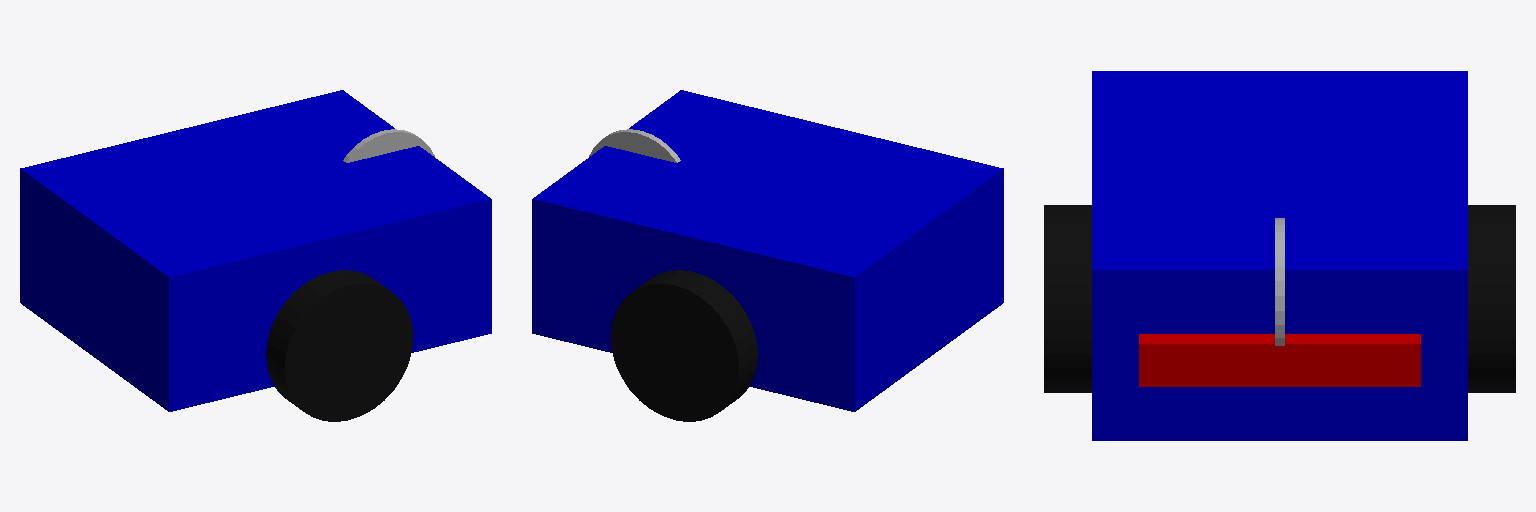
URDF robot description (battlebot):
<?xml version="1.0"?>
<robot name="battlebot">

  <material name="blue">
    <color rgba="0 0 0.8 1"/>
  </material>
  <material name="red">
    <color rgba="0.8 0 0 1"/>
  </material>
  <material name="black">
    <color rgba="0.1 0.1 0.1 1"/>
  </material>
  <material name="grey">
    <color rgba="0.7 0.7 0.7 1"/>
  </material>


  <link name="base_link">
    <inertial>
      <origin xyz="0 0 0.1" rpy="0 0 0"/>
      <mass value="5.0"/>
      <inertia ixx="0.1" ixy="0" ixz="0" iyy="0.1" iyz="0" izz="0.1"/>
    </inertial>
    <visual>
      <origin xyz="0 0 0.1" rpy="0 0 0"/>
      <geometry><box size="0.5 0.4 0.2"/></geometry>
      <material name="blue"/>
    </visual>
    <collision name="base_link_collision"> <origin xyz="0 0 0.1" rpy="0 0 0"/>
      <geometry><box size="0.5 0.4 0.2"/></geometry>
    </collision>
  </link>

  <link name="left_wheel">
    <inertial>
      <origin xyz="0 0 0" rpy="0 0 0"/>
      <mass value="0.5"/>
      <inertia ixx="0.01" ixy="0" ixz="0" iyy="0.01" iyz="0" izz="0.01"/>
    </inertial>
    <visual>
      <origin xyz="0 0 0" rpy="1.5708 0 0"/>
      <geometry><cylinder radius="0.1" length="0.05"/></geometry>
      <material name="black"/>
    </visual>
    <collision name="left_wheel_collision"> <origin xyz="0 0 0" rpy="1.5708 0 0"/>
      <geometry><cylinder radius="0.1" length="0.05"/></geometry>
    </collision>
  </link>

  <joint name="left_wheel_joint" type="continuous">
    <parent link="base_link"/>
    <child link="left_wheel"/>
    <origin xyz="0 0.225 0.05" rpy="0 0 0"/>
    <axis xyz="0 1 0"/>
  </joint>

  <link name="right_wheel">
    <inertial>
      <origin xyz="0 0 0" rpy="0 0 0"/>
      <mass value="0.5"/>
      <inertia ixx="0.01" ixy="0" ixz="0" iyy="0.01" iyz="0" izz="0.01"/>
    </inertial>
    <visual>
      <origin xyz="0 0 0" rpy="1.5708 0 0"/>
      <geometry><cylinder radius="0.1" length="0.05"/></geometry>
      <material name="black"/>
    </visual>
    <collision name="right_wheel_collision"> <origin xyz="0 0 0" rpy="1.5708 0 0"/>
      <geometry><cylinder radius="0.1" length="0.05"/></geometry>
    </collision>
  </link>

  <joint name="right_wheel_joint" type="continuous">
    <parent link="base_link"/>
    <child link="right_wheel"/>
    <origin xyz="0 -0.225 0.05" rpy="0 0 0"/>
    <axis xyz="0 1 0"/>
  </joint>

  <link name="saw_link">
    <inertial>
      <origin xyz="0 0 0" rpy="0 0 0"/>
      <mass value="0.2"/>
      <inertia ixx="0.001" ixy="0" ixz="0" iyy="0.001" iyz="0" izz="0.001"/>
    </inertial>
    <visual>
      <origin xyz="0 0 0" rpy="1.5708 0 0"/>
      <geometry><cylinder radius="0.08" length="0.01"/></geometry>
      <material name="grey"/>
    </visual>
    <collision name="battlebot_saw_collision"> <origin xyz="0 0 0" rpy="1.5708 0 0"/>
      <geometry><cylinder radius="0.08" length="0.01"/></geometry>
    </collision>
  </link>

  <joint name="saw_joint" type="fixed">
    <parent link="base_link"/>
    <child link="saw_link"/>
    <origin xyz="0.2 0 0.15" rpy="0 0 0"/>
  </joint>

  <link name="contact_sensor_link">
    <inertial>
      <origin xyz="0 0 0" rpy="0 0 0"/>
      <mass value="0.01"/>
      <inertia ixx="0.0001" ixy="0" ixz="0" iyy="0.0001" iyz="0" izz="0.0001"/>
    </inertial>
    <visual>
      <geometry><box size="0.05 0.3 0.05"/></geometry>
      <material name="red"/>
    </visual>
    <collision name="battlebot_front_bumper_collision"> <origin xyz="0 0 0" rpy="0 0 0"/>
      <geometry><box size="0.05 0.3 0.05"/></geometry>
    </collision>
  </link>

  <joint name="contact_sensor_joint" type="fixed">
    <parent link="base_link"/>
    <child link="contact_sensor_link"/>
    <origin xyz="0.25 0 0.1" rpy="0 0 0"/>
  </joint>

  <gazebo>
    <plugin name="diff_drive" filename="libgazebo_ros_diff_drive.so">
      <ros><namespace>/battlebot</namespace></ros>
      <left_joint>left_wheel_joint</left_joint>
      <right_joint>right_wheel_joint</right_joint>
      <wheel_separation>0.45</wheel_separation>
      <wheel_diameter>0.2</wheel_diameter>
      <command_topic>cmd_vel</command_topic>
      <odometry_topic>odom</odometry_topic>
      <odometry_frame>odom</odometry_frame>
      <robot_base_frame>base_link</robot_base_frame>
    </plugin>
  </gazebo>

  <gazebo reference="contact_sensor_link">
    <sensor name="main_contact_sensor" type="contact">
      <update_rate>100</update_rate>
      <contact><collision>battlebot_front_bumper_collision</collision></contact>
      <plugin name="gazebo_ros_bumper_main" filename="libgazebo_ros_bumper.so">
        <ros>
          <namespace>/battlebot</namespace>
          <remapping>bumper_states:=contact</remapping>
        </ros>
        <frame_name>contact_sensor_link</frame_name>
      </plugin>
    </sensor>
  </gazebo>

  <gazebo reference="saw_link">
    <sensor name="saw_contact_sensor" type="contact">
      <update_rate>100</update_rate>
      <contact><collision>battlebot_saw_collision</collision></contact>
      <plugin name="gazebo_ros_bumper_saw_plugin" filename="libgazebo_ros_bumper.so">
        <ros>
          <namespace>/battlebot</namespace>
          <remapping>bumper_states:=saw_contact</remapping>
        </ros>
        <frame_name>saw_link</frame_name>
      </plugin>
    </sensor>
  </gazebo>

  <gazebo reference="base_link"><material>Gazebo/Blue</material></gazebo>
  <gazebo reference="left_wheel"><material>Gazebo/Black</material></gazebo>
  <gazebo reference="right_wheel"><material>Gazebo/Black</material></gazebo>
  <gazebo reference="saw_link"><material>Gazebo/Grey</material></gazebo>
  <gazebo reference="contact_sensor_link"><material>Gazebo/Red</material></gazebo>

</robot>

--- What the picture shows (computed from the rendered views, not written in the file) ---
The picture shows the robot from 3 angles, left to right: view 1: azimuth 30°, elevation 25°; view 2: azimuth 150°, elevation 25°; view 3: azimuth 270°, elevation 25°; orthographic projection.
Model battlebot with 5 links and 4 joints (2 continuous, 2 fixed), rooted at base_link, posed all joints at 0.
Visible links, largest first — view 1: base_link, right_wheel, saw_link; view 2: base_link, left_wheel, saw_link; view 3: base_link, contact_sensor_link, left_wheel, right_wheel, saw_link.
Link boxes in pixels (bbox=[...]): base_link: bbox=[20, 90, 491, 411]; right_wheel: bbox=[266, 270, 412, 421]; saw_link: bbox=[343, 129, 434, 162]; base_link: bbox=[532, 90, 1003, 411]; left_wheel: bbox=[611, 270, 757, 421]; saw_link: bbox=[589, 129, 680, 162]; base_link: bbox=[1092, 71, 1467, 440]; contact_sensor_link: bbox=[1139, 334, 1420, 386]; left_wheel: bbox=[1468, 205, 1515, 392]; right_wheel: bbox=[1044, 205, 1091, 392]; saw_link: bbox=[1275, 218, 1284, 345].
Size in the robot's own frame: 0.53 by 0.5 by 0.28 metres.
Geometry: primitives only (box / cylinder / sphere), no mesh files.